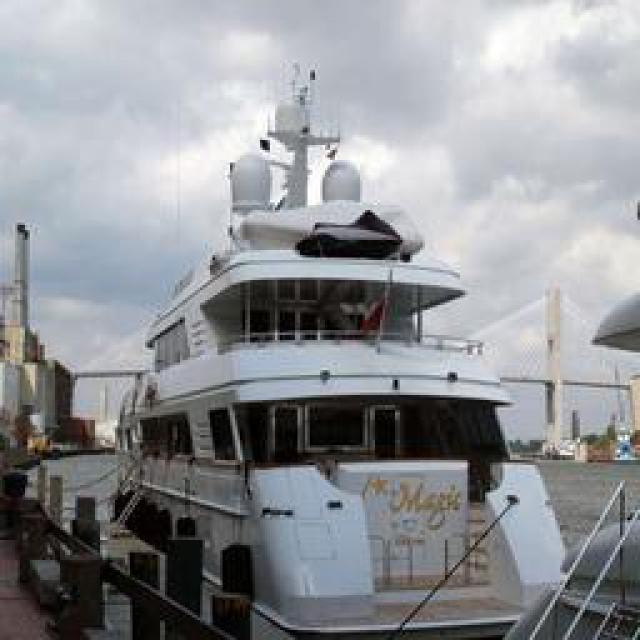Ship: (109, 167, 539, 637)
